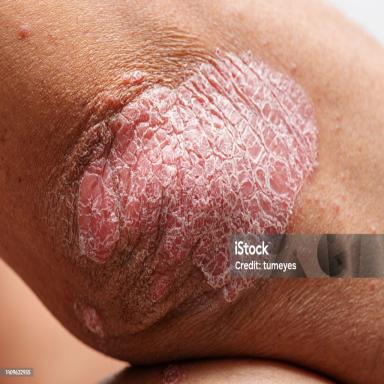Psoriasis: (78, 53, 318, 301), (74, 298, 106, 340)
